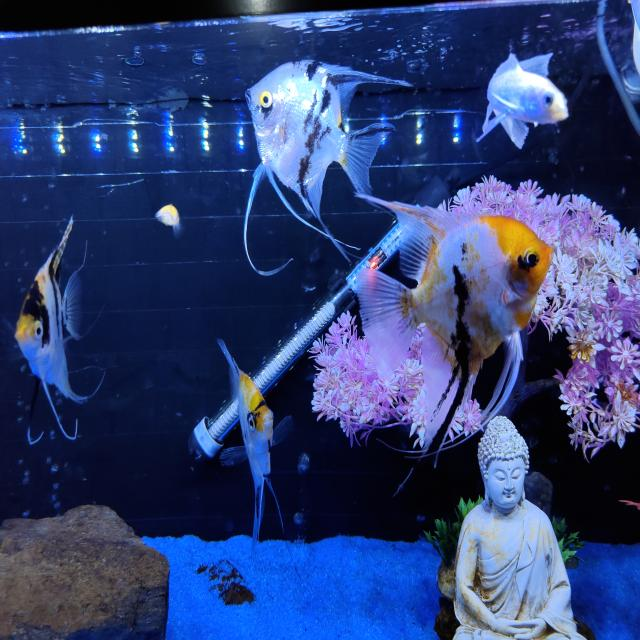Fish: (357, 197, 552, 450), (244, 60, 411, 275), (15, 217, 101, 439), (218, 340, 292, 557), (477, 53, 568, 148), (155, 204, 182, 237), (619, 500, 639, 509)
